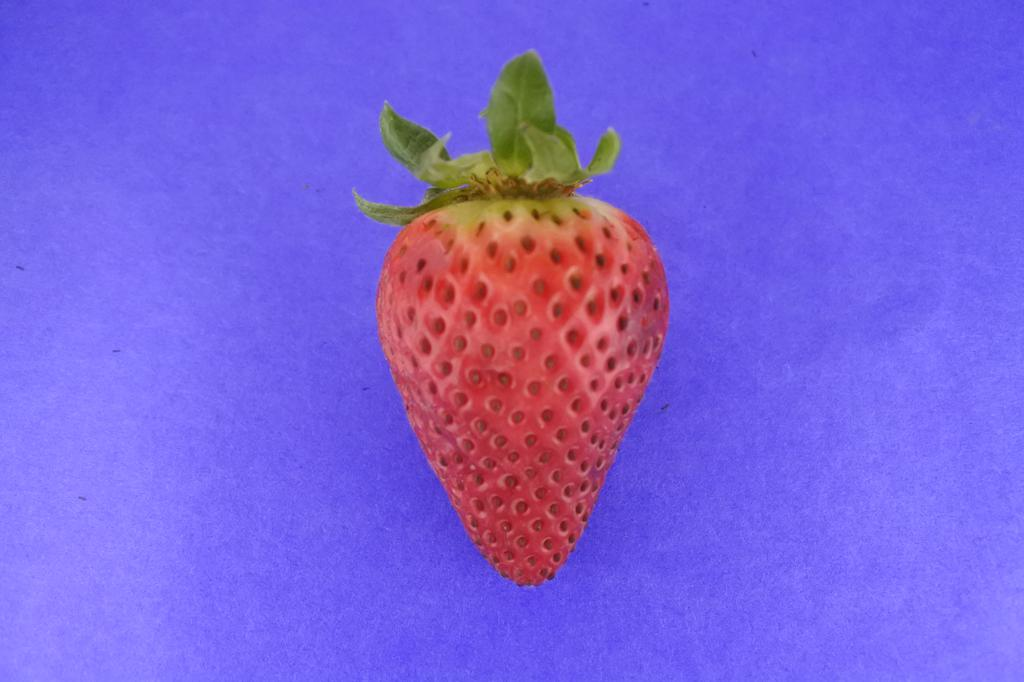red strawberry: (351, 49, 670, 592)
